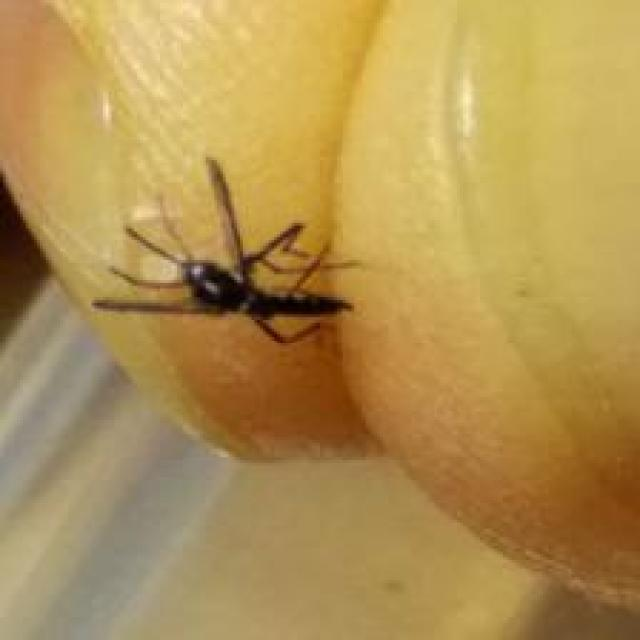Aedes albopictus: (90, 156, 359, 347)
